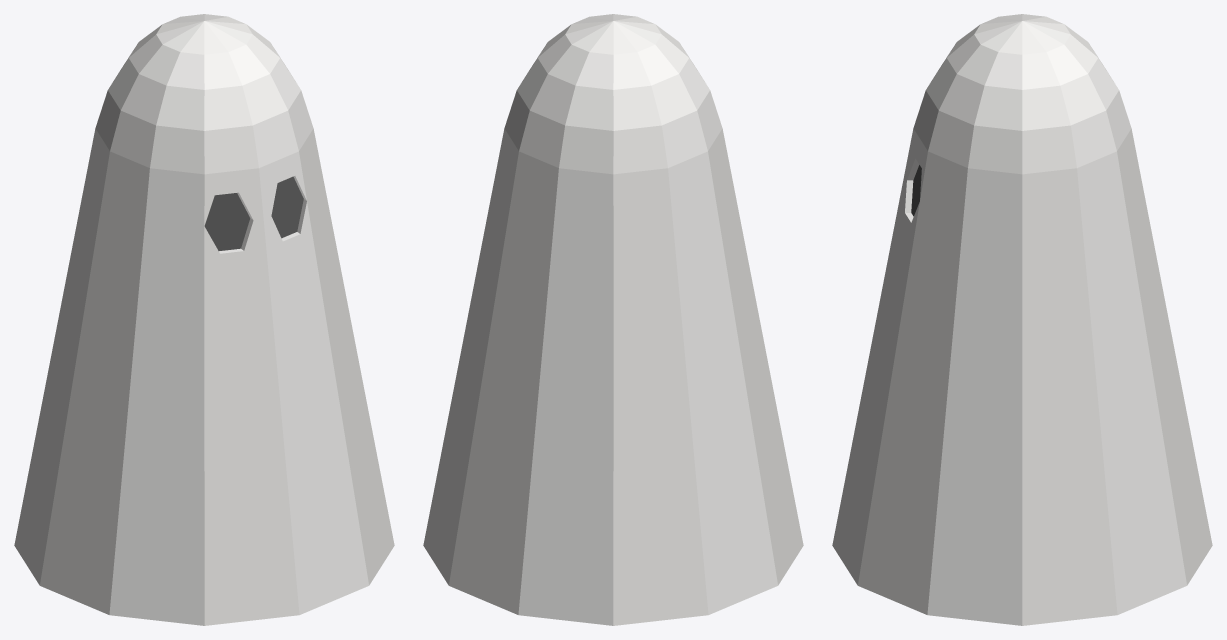
Rendered from Ghost_1.fbx.
3 renders of one model, left to right at view 1: azimuth 30°, elevation 25°; view 2: azimuth 150°, elevation 25°; view 3: azimuth 270°, elevation 25°, orthographic.
Parts seen in each view (by area): view 1: Ghost_1; view 2: Ghost_1; view 3: Ghost_1.
Boxes of the visible parts, box(x1,y1,x2,y2) form: Ghost_1: box(14, 14, 394, 625); Ghost_1: box(423, 14, 803, 625); Ghost_1: box(832, 14, 1212, 625).
Bounding box in the file's own units: 131 × 131 × 199.
